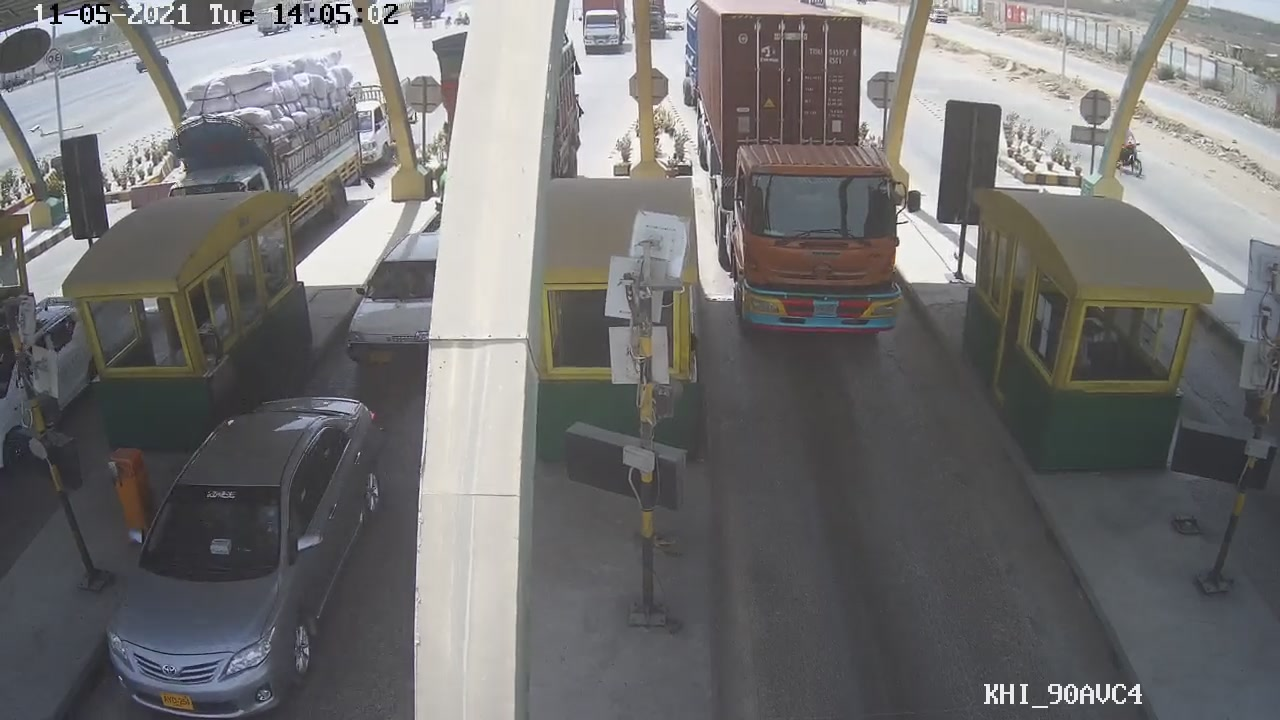F6: (687, 9, 917, 338)
